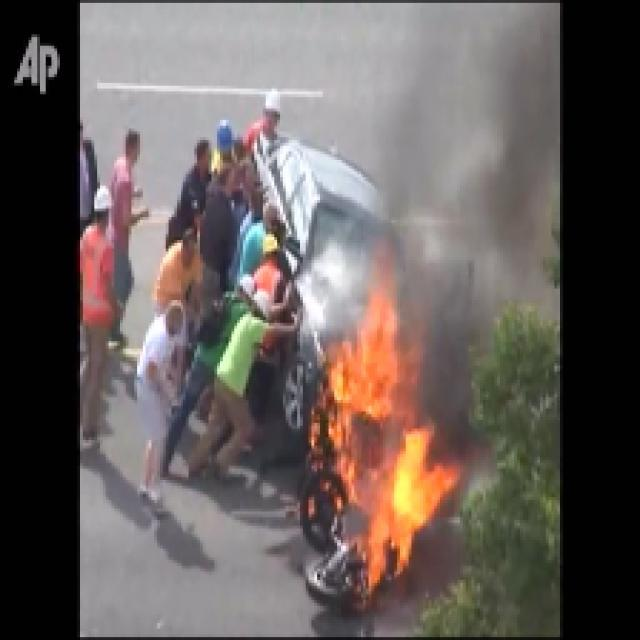Fire: (331, 338, 432, 559)
Smoke: (406, 18, 542, 323)
